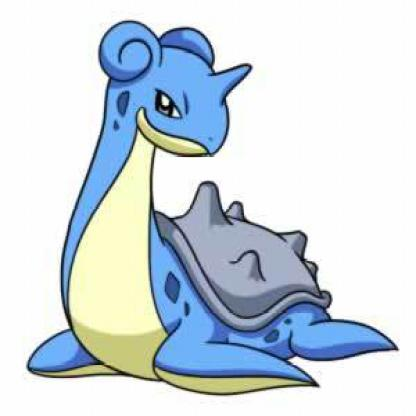Lapras: (11, 10, 408, 406)
